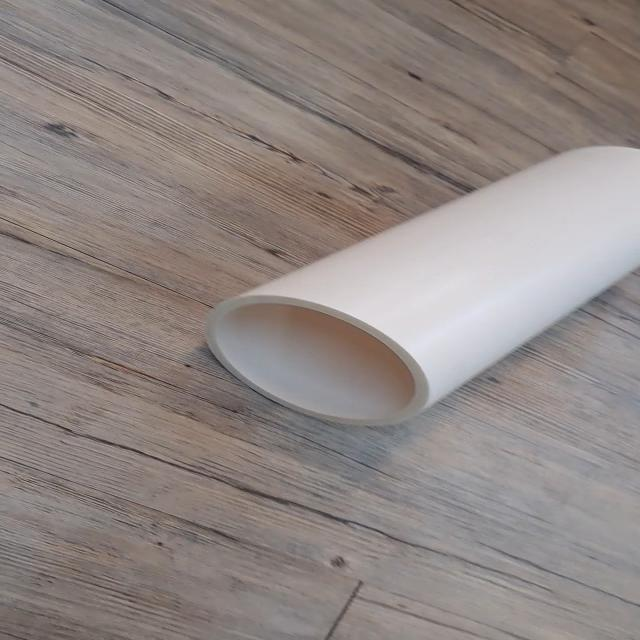CORAL: (205, 139, 640, 425)
